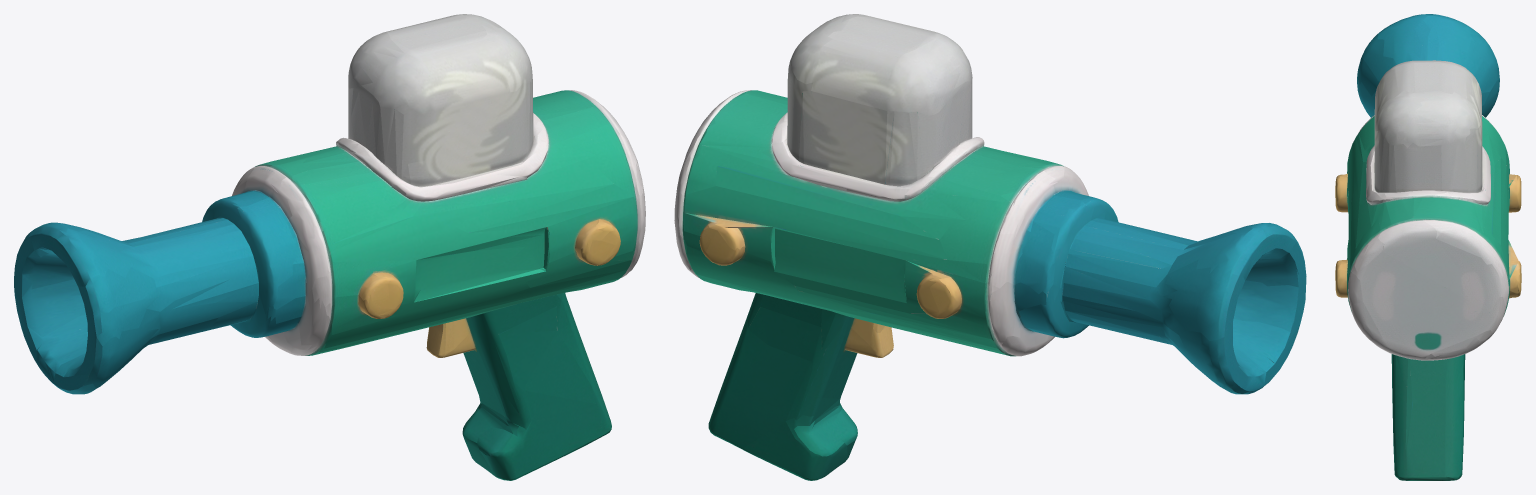
Rendered from Vacuum_Cyclone.glb.
3 views of the same model, side by side, from view 1: azimuth 30°, elevation 25°; view 2: azimuth 150°, elevation 25°; view 3: azimuth 270°, elevation 25° (orthographic). The views are drawn at different scales.
Bounding box in the file's own units: 1.9 × 1.49 × 0.6934.
Materials: 1 (1 with a texture image).
